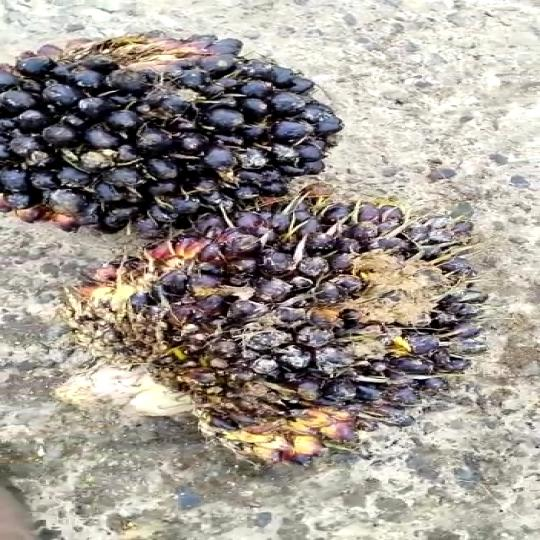mentah: (66, 202, 519, 488), (0, 7, 339, 238)
